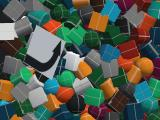Left: (24, 25, 66, 80)
